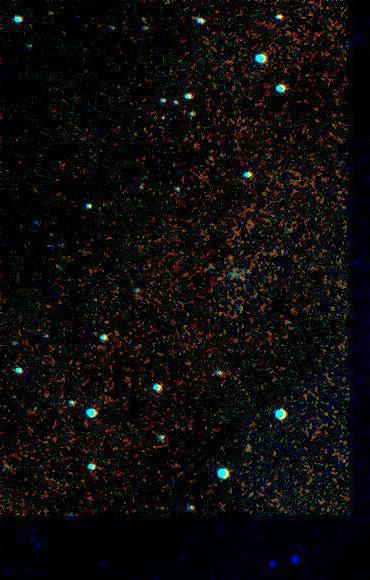star: (148, 102, 178, 132)
